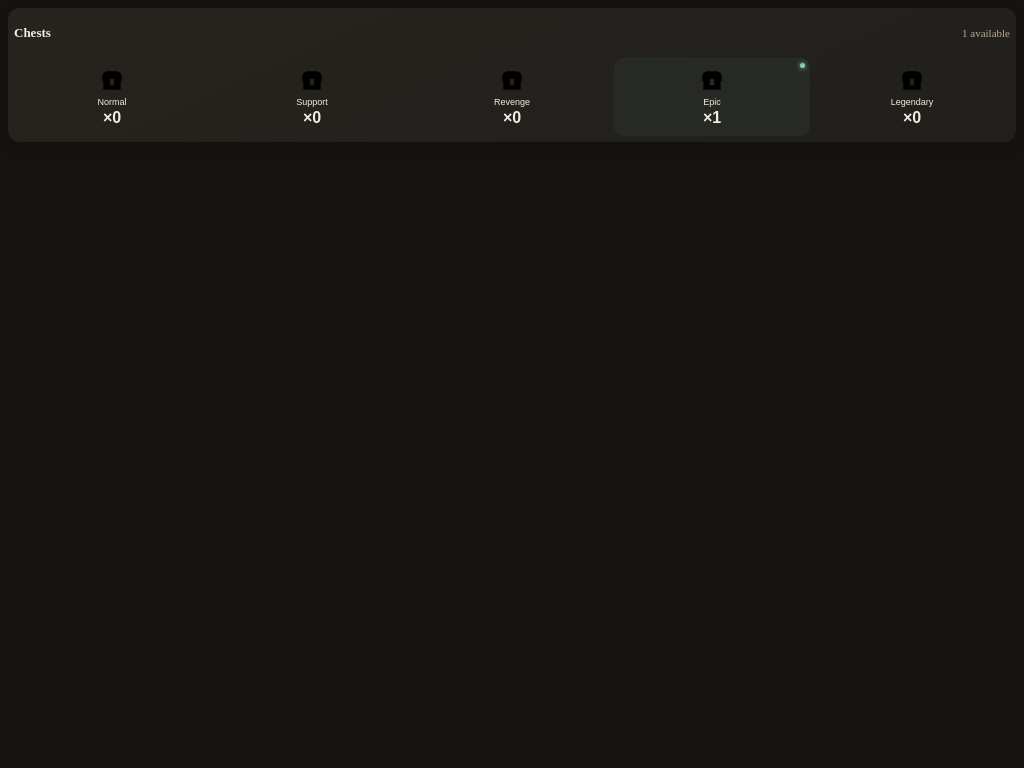
Test: a previously opened chest restores the same offer without another opening request
The image size is (1024, 768).
Step 1. Click the button named "Epic chest, 1 available" → click(712, 97), box [614,58,810,136]
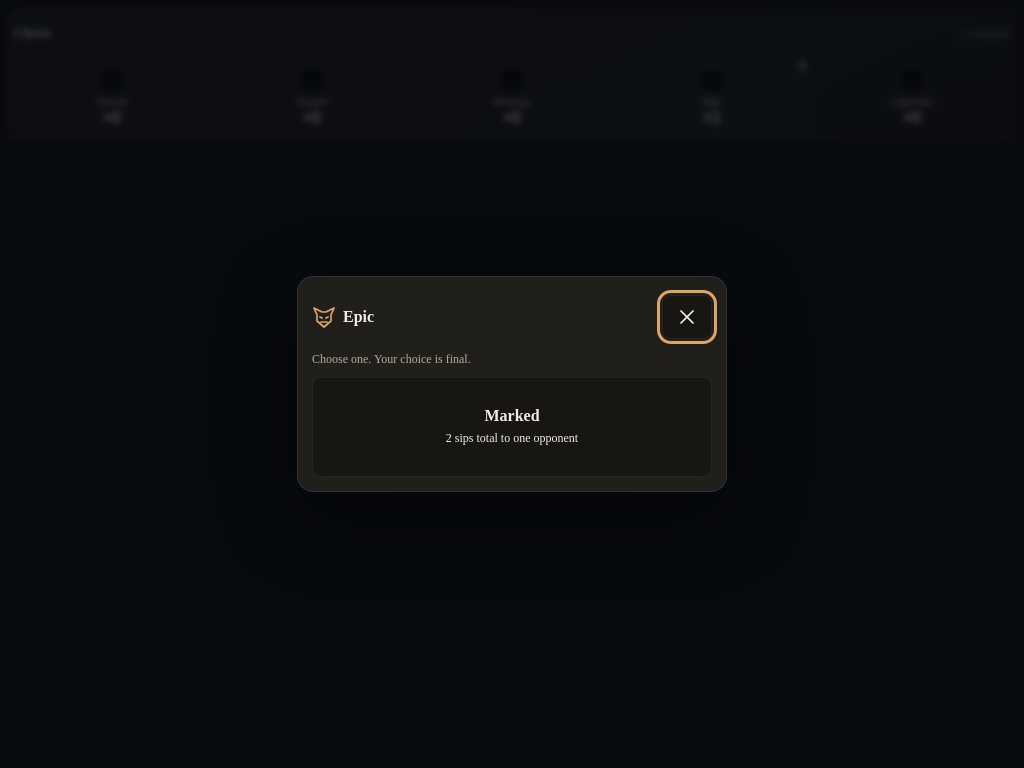
Result: the button "Marked 2 sips total to one opponent" is shown at [312,377,712,477]
